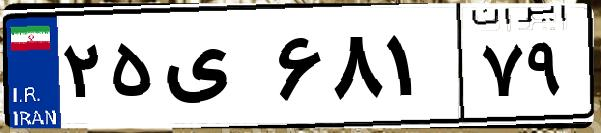1: (385, 28, 445, 110)
2: (57, 26, 110, 100)
5: (110, 28, 158, 98)
6: (270, 28, 330, 110)
7: (475, 38, 525, 113)
8: (330, 28, 385, 110)
9: (525, 38, 570, 115)
ی: (158, 20, 270, 120)
